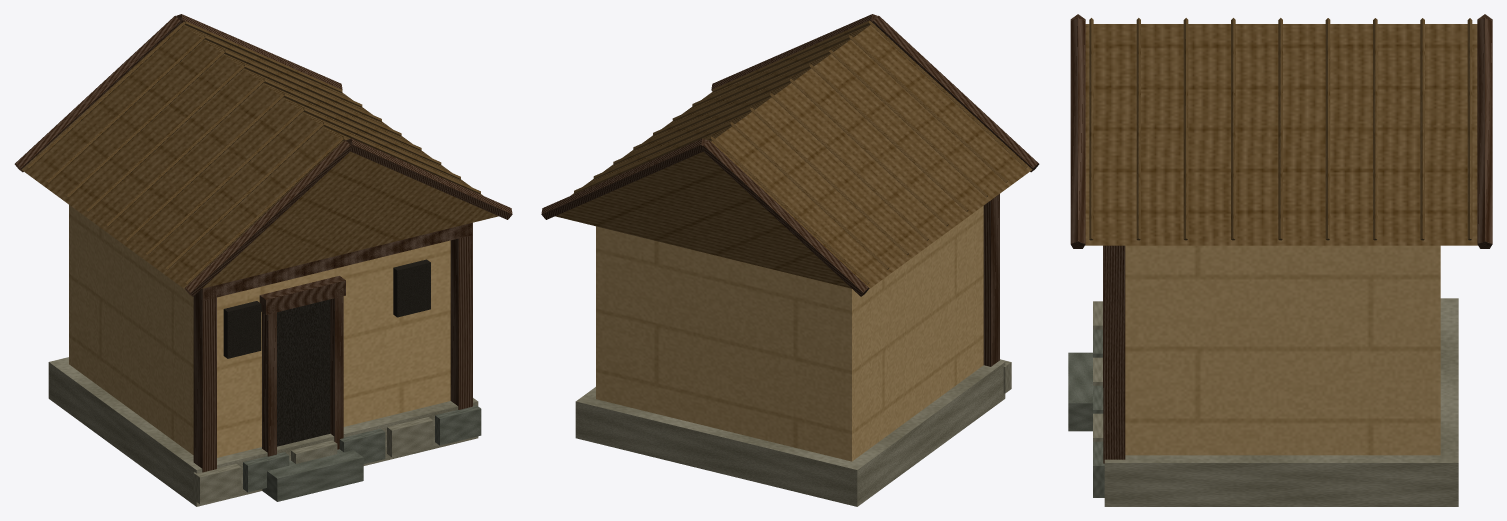
The model's file is habitation_thatch_01.fbx.
3 views of the same model, side by side, from view 1: azimuth 30°, elevation 25°; view 2: azimuth 150°, elevation 25°; view 3: azimuth 270°, elevation 25° (orthographic). The views are drawn at different scales.
Parts seen in each view (by area): view 1: habitation_thatch_01_LOD0; view 2: habitation_thatch_01_LOD0; view 3: habitation_thatch_01_LOD0.
Part boxes in pixels (<box>): habitation_thatch_01_LOD0: <box>14,14,512,506</box>; habitation_thatch_01_LOD0: <box>541,14,1039,506</box>; habitation_thatch_01_LOD0: <box>1068,14,1492,506</box>.
Size of what is drawn, in the model's own units: 1.02 by 1.02 by 0.9591.
Materials: 1 (1 with a texture image).
